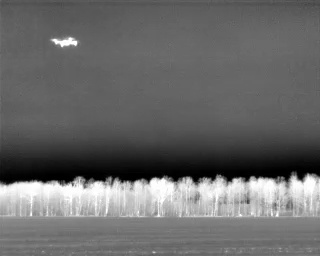DRONE: (47, 32, 83, 53)
